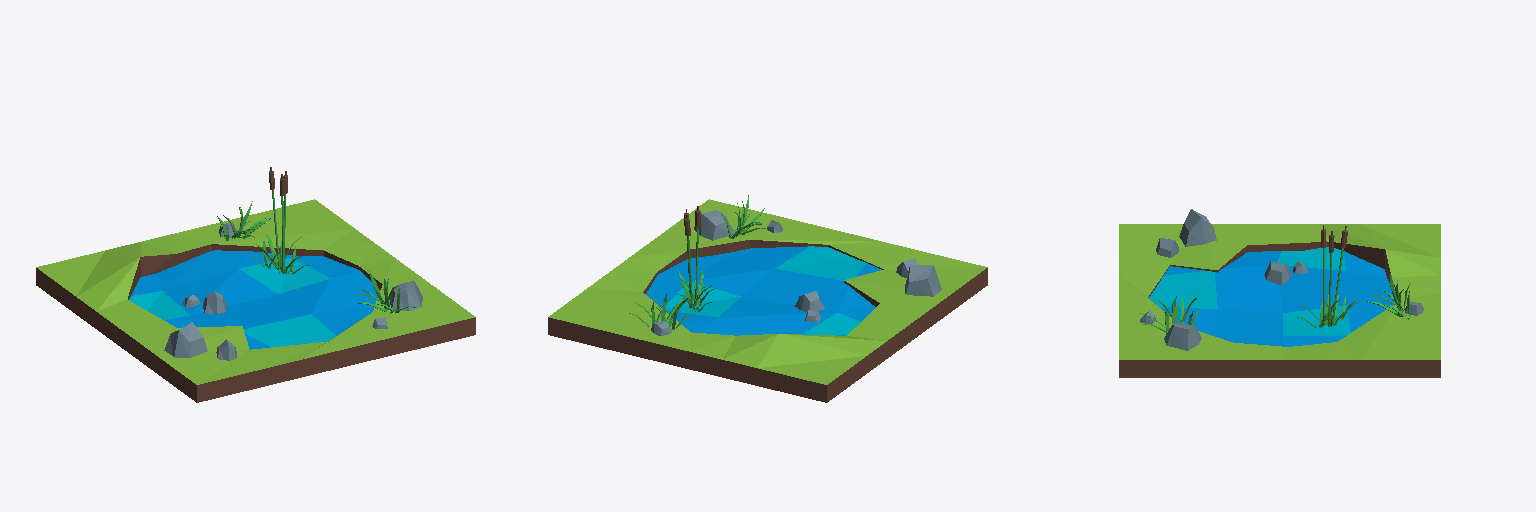
Rendered from pond_02.obj.
3 views of the same model, side by side, from view 1: azimuth 30°, elevation 25°; view 2: azimuth 150°, elevation 25°; view 3: azimuth 270°, elevation 25° (orthographic).
Parts seen in each view (by area): view 1: pond_01_Cube.010; view 2: pond_01_Cube.010; view 3: pond_01_Cube.010.
Part boxes in pixels (x1,y1,x2,y2): pond_01_Cube.010: (36, 167, 475, 402); pond_01_Cube.010: (548, 195, 987, 402); pond_01_Cube.010: (1119, 209, 1440, 377).
Bounding box in the file's own units: 200 × 73.87 × 200.